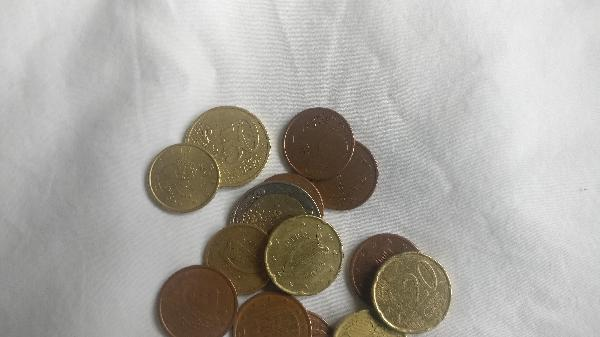Fifty Cent: (183, 106, 271, 184)
Five Cent: (155, 267, 237, 337), (282, 105, 356, 181), (346, 232, 417, 300), (310, 142, 377, 212), (233, 292, 305, 337)
Ten Cent: (147, 141, 218, 209), (205, 226, 269, 294)
Twenty Cent: (375, 251, 457, 329), (268, 214, 340, 299)
Two Euro: (228, 181, 326, 248)
